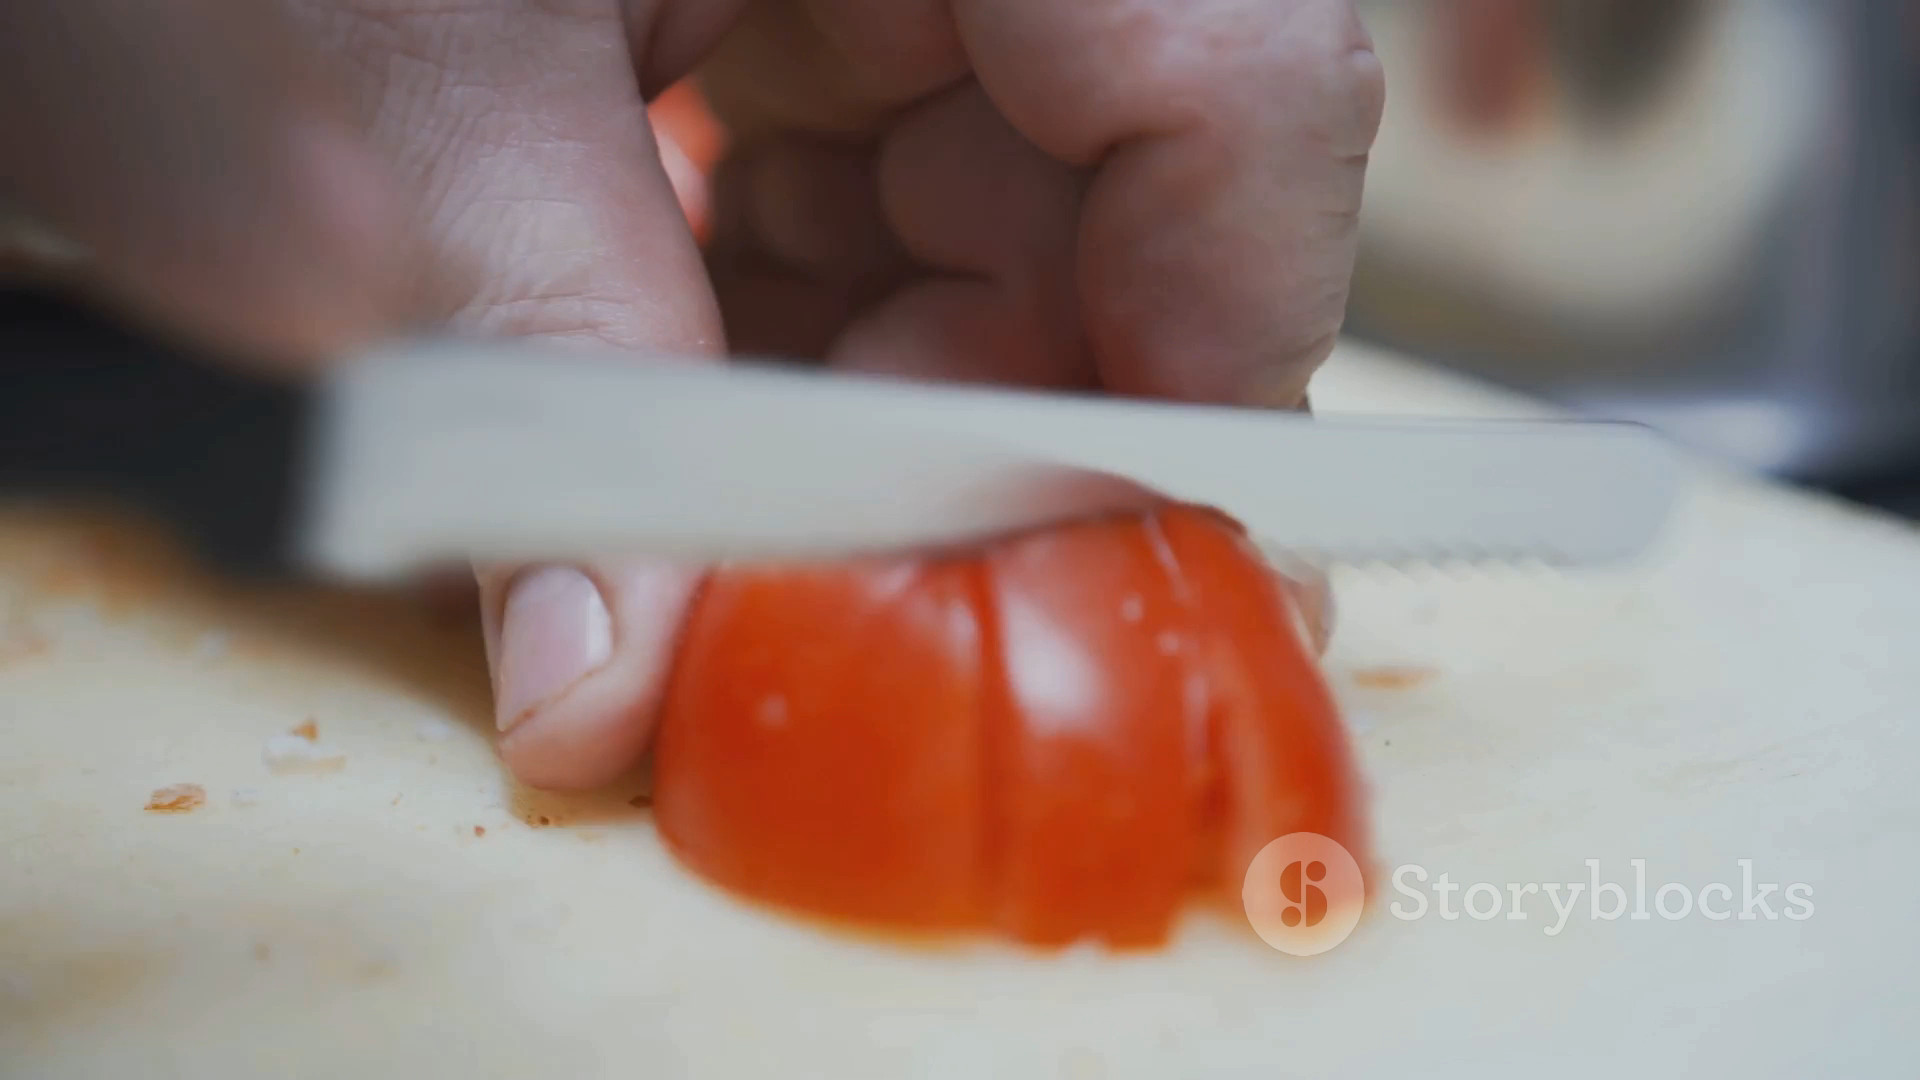cortante: (299, 331, 1691, 593)
